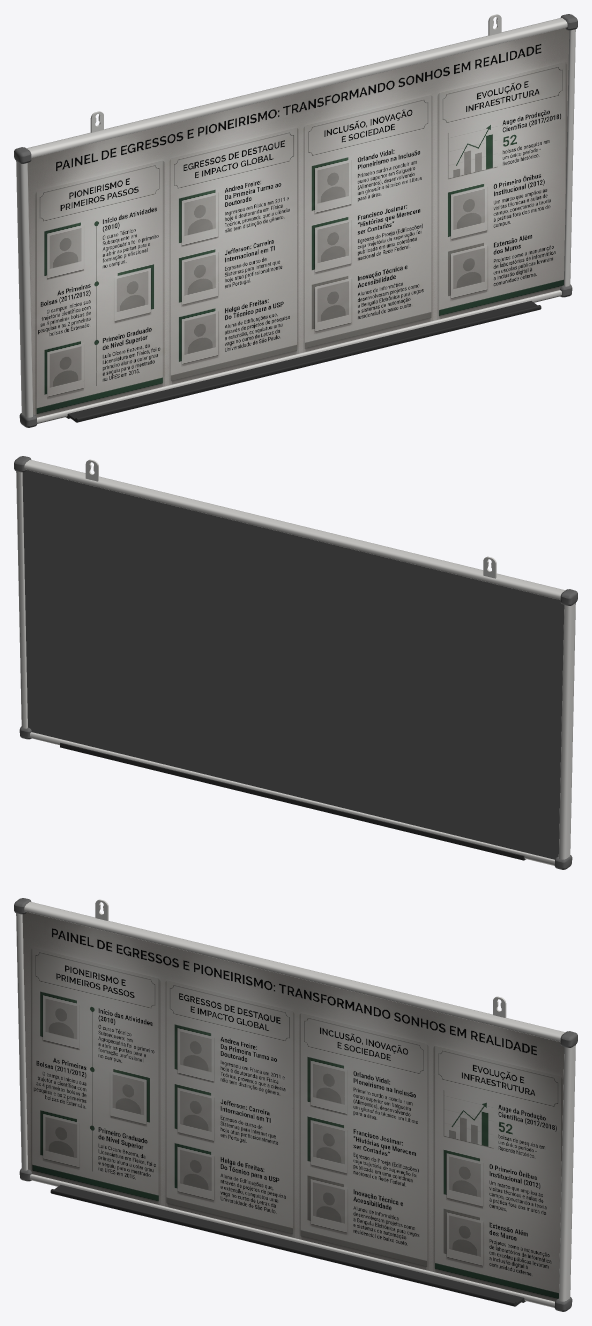
File: whiteboard_low_poly_2.glb
3 renders of one model, top to bottom at view 1: azimuth 30°, elevation 25°; view 2: azimuth 150°, elevation 25°; view 3: azimuth 330°, elevation 25°, orthographic.
Visible parts, largest first — view 1: Lavagna_0; view 2: Lavagna_0; view 3: Lavagna_0.
Boxes of the visible parts, x1,y1,x2,y2 form: Lavagna_0: (14,14,577,427); Lavagna_0: (14,456,577,869); Lavagna_0: (14,898,577,1311).
Bounding box in the file's own units: 2.63 × 1.33 × 0.1447.
2 materials, 2 textured.
